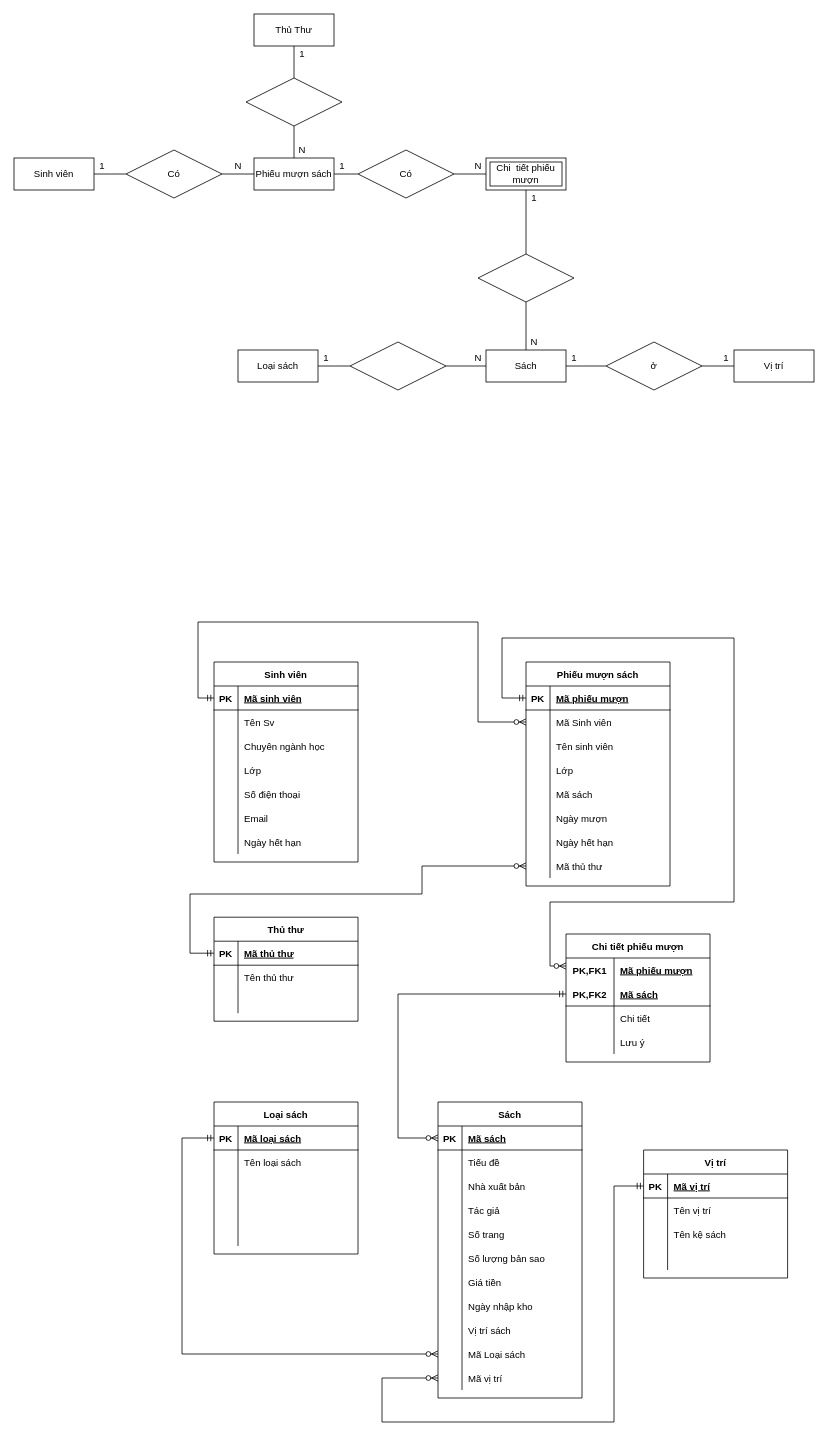
This 828x1443 diagram has some shape labels left out. The shapes that lost their labels are listed below. From the top down, each one's centre as x and y in pixels, then its label:
point (293, 101): Làm
point (525, 277): Mượn
point (397, 365): Thuộc
